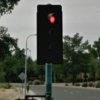Traffic light: (29, 1, 66, 69)
